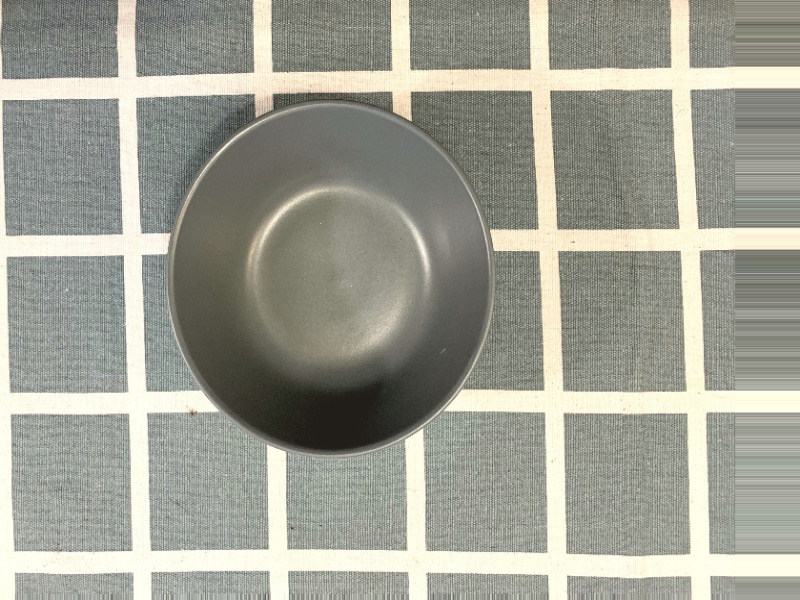bowl_big: (144, 85, 504, 463)
